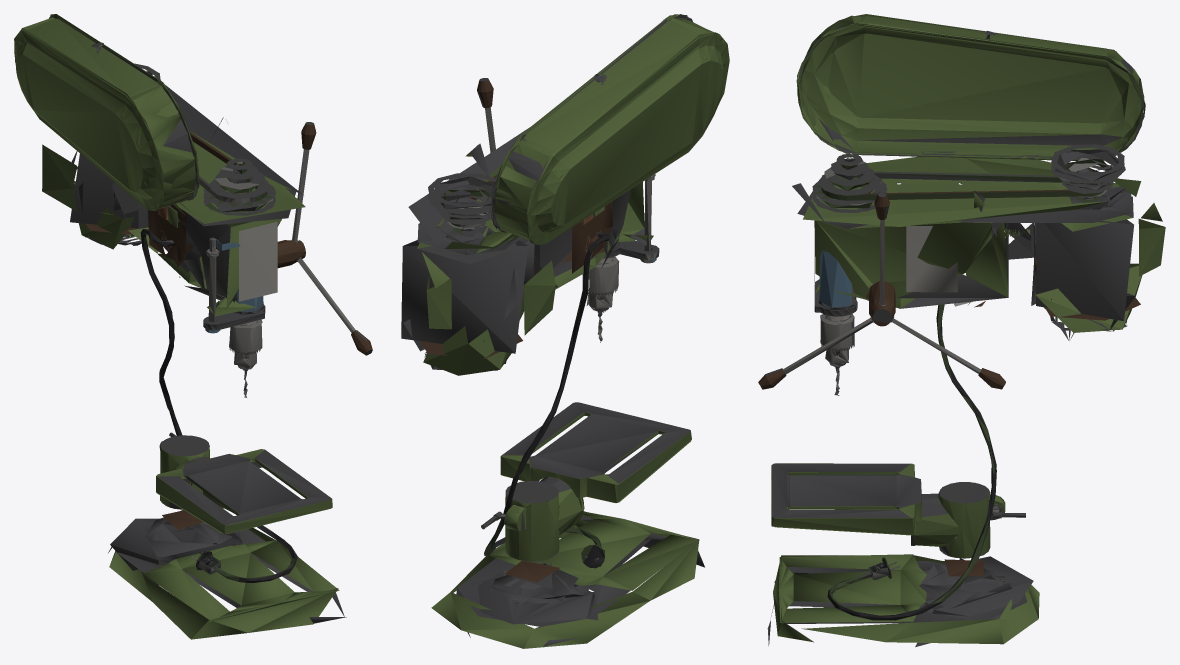
File: press.glb
3 renders of one model, left to right at view 1: azimuth 30°, elevation 25°; view 2: azimuth 150°, elevation 25°; view 3: azimuth 270°, elevation 25°, orthographic. The views are drawn at different scales.
Visible parts, largest first — view 1: Body, Lid, Plate, Gear_b, Plug, Handle, Limiter, Bit, Belt; view 2: Body, Lid, Plate, Gear_a, Plug, Bit, Limiter, Handle; view 3: Body, Lid, Plate, Handle, Belt, Plug, Gear_a, Gear_b, Limiter, Bit.
Part boxes in pixels (bbox=[...]): Body: bbox=[42, 76, 346, 639]; Lid: bbox=[14, 14, 199, 210]; Plate: bbox=[156, 435, 332, 533]; Gear_b: bbox=[203, 158, 275, 215]; Plug: bbox=[140, 229, 297, 582]; Handle: bbox=[277, 122, 372, 355]; Limiter: bbox=[203, 237, 265, 333]; Bit: bbox=[229, 319, 262, 397]; Belt: bbox=[189, 132, 267, 203]; Body: bbox=[401, 127, 704, 648]; Lid: bbox=[490, 14, 729, 244]; Plate: bbox=[500, 402, 691, 561]; Gear_a: bbox=[427, 173, 495, 235]; Plug: bbox=[484, 232, 610, 568]; Bit: bbox=[582, 256, 619, 342]; Limiter: bbox=[601, 174, 659, 263]; Handle: bbox=[477, 78, 495, 152]; Body: bbox=[767, 156, 1165, 647]; Lid: bbox=[796, 14, 1145, 160]; Plate: bbox=[771, 463, 1005, 558]; Handle: bbox=[758, 192, 1005, 389]; Belt: bbox=[821, 171, 1103, 200]; Plug: bbox=[827, 304, 996, 620]; Gear_a: bbox=[1051, 144, 1125, 202]; Gear_b: bbox=[812, 154, 887, 212]; Limiter: bbox=[814, 250, 857, 316]; Bit: bbox=[820, 314, 854, 395].
Bounding box in the file's own units: 0.3549 × 0.9099 × 0.5981.
